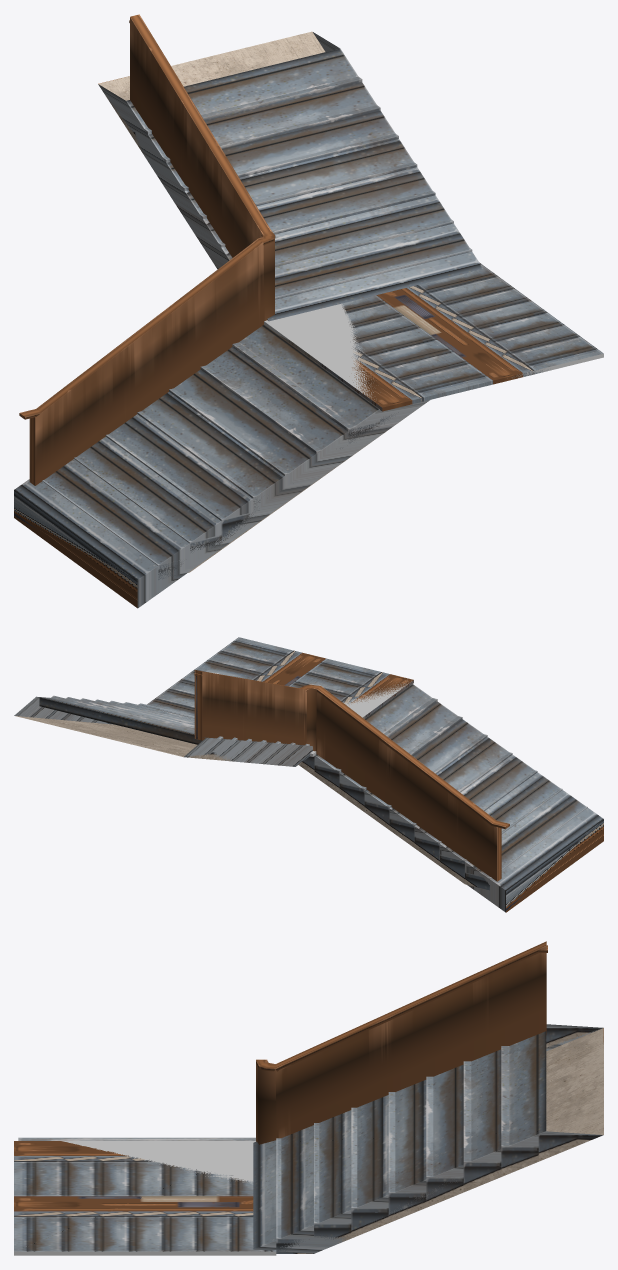
Rendered from stairs03_C.FBX.
3 renders of one model, top to bottom at view 1: azimuth 30°, elevation 25°; view 2: azimuth 150°, elevation 25°; view 3: azimuth 270°, elevation 25°, orthographic. The views are drawn at different scales.
Visible parts, largest first — view 1: stairs03_C_COL, stairs03_C_rail_COL, stairs03_C; view 2: stairs03_C_COL, stairs03_C_rail_COL, stairs03_C, stairs03_C_rail; view 3: stairs03_C_COL, stairs03_C, stairs03_C_rail_COL, stairs03_C_rail.
Part boxes in pixels (box(x1,y1,x2,y2)): stairs03_C_COL: box(14, 32, 603, 608); stairs03_C_rail_COL: box(29, 14, 274, 485); stairs03_C: box(42, 31, 603, 579); stairs03_C_COL: box(14, 637, 603, 912); stairs03_C_rail_COL: box(194, 670, 501, 881); stairs03_C: box(15, 681, 587, 890); stairs03_C_rail: box(194, 673, 509, 829); stairs03_C_COL: box(14, 1024, 603, 1253); stairs03_C: box(14, 1028, 603, 1255); stairs03_C_rail_COL: box(256, 941, 546, 1144); stairs03_C_rail: box(256, 945, 547, 1071).
Bounding box in the file's own units: 628 × 442 × 675.
